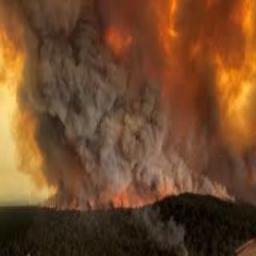Heavy smoke: (17, 7, 243, 208)
Large fire: (1, 0, 256, 214)
